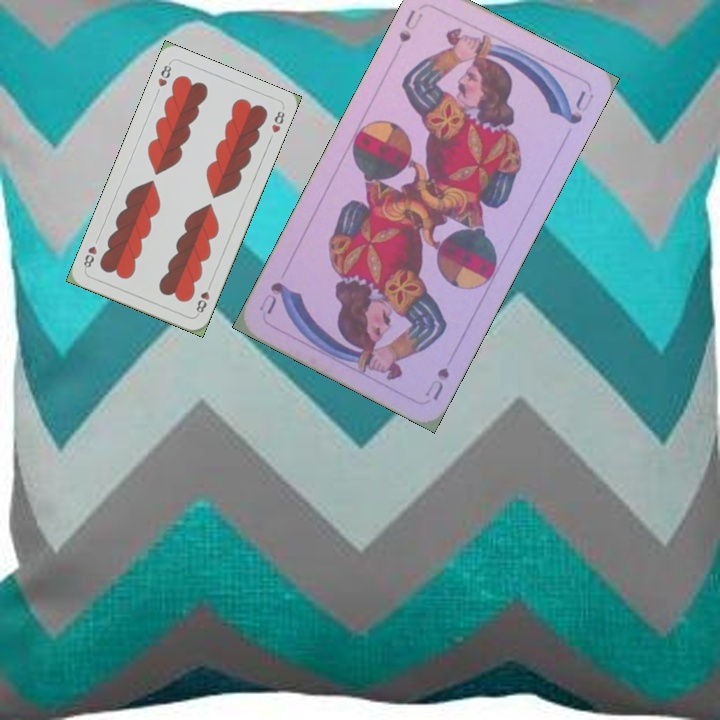H8: (192, 279, 214, 318), (154, 58, 174, 89)
SU: (394, 5, 426, 45), (421, 363, 452, 403)
